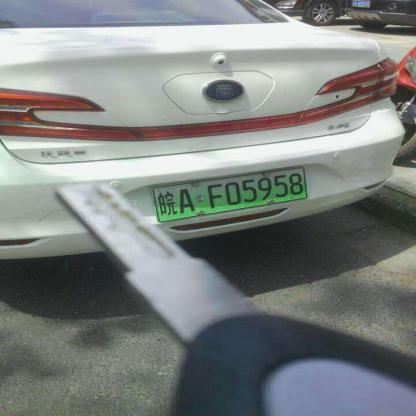lp: (149, 166, 311, 220)
